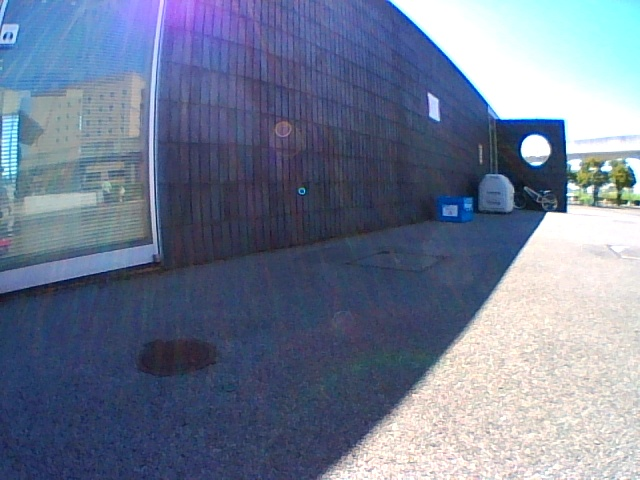blue_box: (438, 197, 472, 222)
tag: (443, 205, 457, 215)
